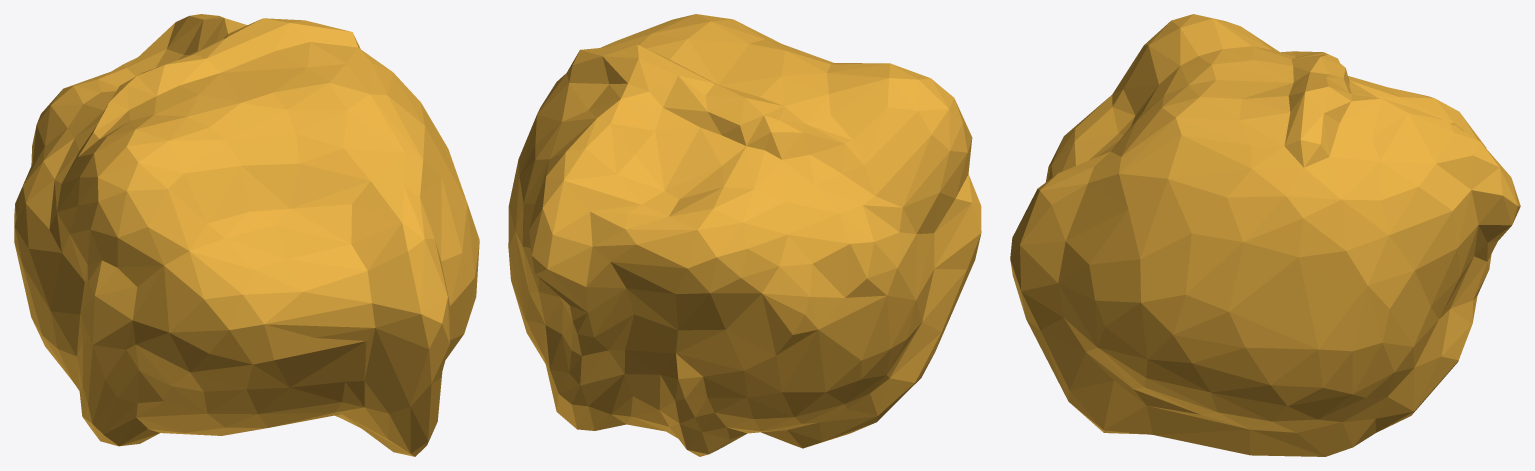
The model's file is DesertPlanetoid.fbx.
3 views of the same model, side by side, from view 1: azimuth 30°, elevation 25°; view 2: azimuth 150°, elevation 25°; view 3: azimuth 270°, elevation 25° (orthographic). The views are drawn at different scales.
Visible parts, largest first — view 1: DesertPlanetoid; view 2: DesertPlanetoid; view 3: DesertPlanetoid.
Boxes of the visible parts, left/top/right/bottom form: DesertPlanetoid: left=14, top=14, right=479, bottom=456; DesertPlanetoid: left=508, top=14, right=981, bottom=456; DesertPlanetoid: left=1010, top=14, right=1520, bottom=456.
Size of the model in its own units: 25.74 by 23.51 by 30.91.
